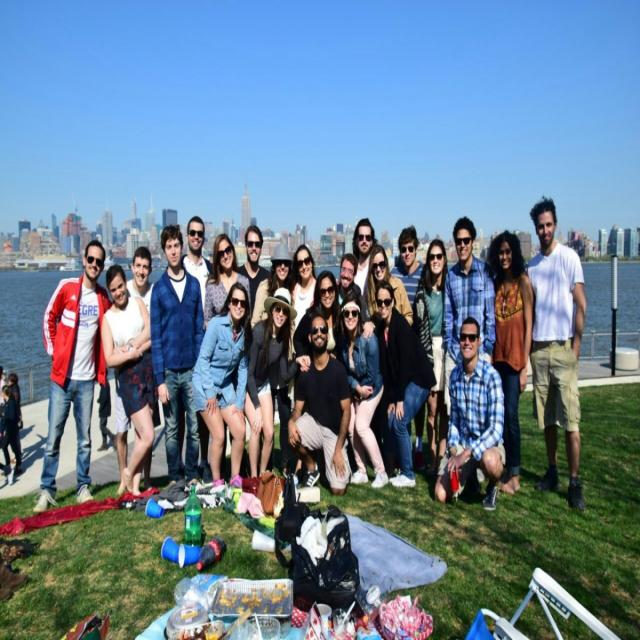body: (518, 195, 590, 509), (32, 238, 113, 515), (149, 221, 207, 495), (432, 314, 507, 512), (483, 228, 537, 495), (98, 263, 156, 500), (373, 278, 437, 488), (190, 280, 252, 496), (242, 286, 311, 478), (286, 312, 353, 498), (113, 244, 158, 498), (250, 242, 297, 479), (443, 214, 497, 416), (339, 290, 389, 491), (178, 215, 214, 483), (388, 225, 426, 472), (292, 268, 378, 374), (416, 239, 449, 475), (202, 232, 252, 333), (361, 243, 415, 327), (235, 224, 271, 320), (288, 243, 318, 331), (351, 217, 379, 298), (1, 384, 24, 477), (0, 363, 24, 448), (335, 252, 362, 307)
